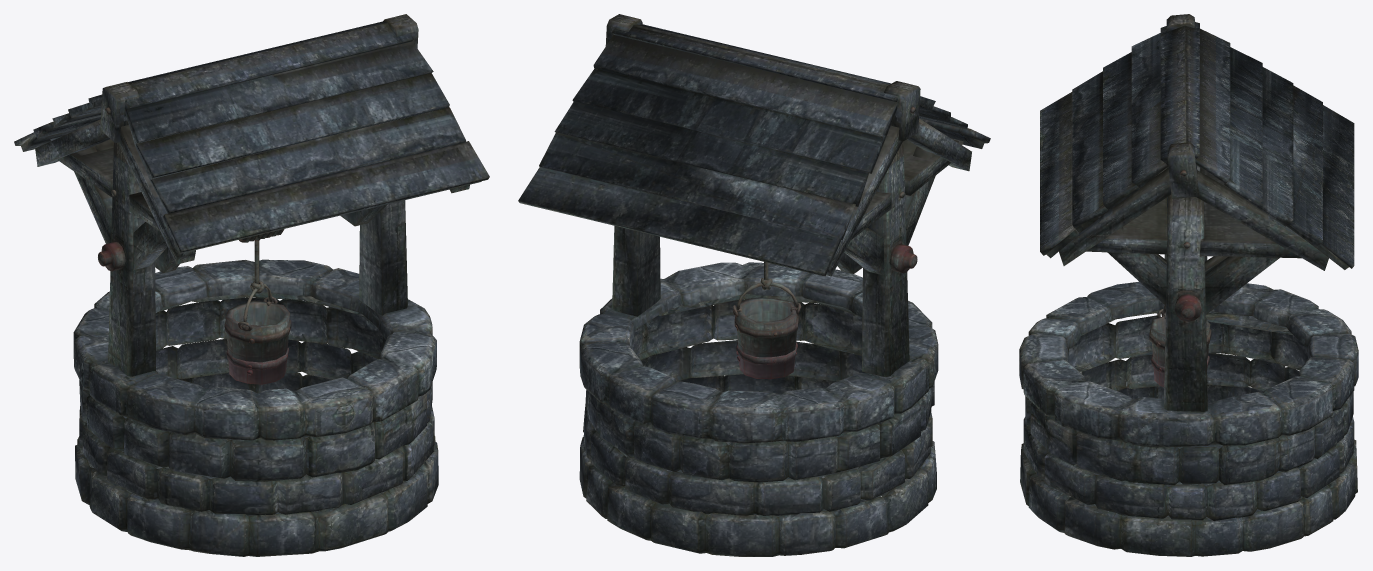
The model's file is well.glb.
3 renders of one model, left to right at view 1: azimuth 30°, elevation 25°; view 2: azimuth 150°, elevation 25°; view 3: azimuth 270°, elevation 25°, orthographic. The views are drawn at different scales.
Visible parts, largest first — view 1: tripo_node_7acff64b-e98b-4eec-8b29-5b40ccc87e42; view 2: tripo_node_7acff64b-e98b-4eec-8b29-5b40ccc87e42; view 3: tripo_node_7acff64b-e98b-4eec-8b29-5b40ccc87e42.
Boxes of the visible parts, bbox=[...] form: tripo_node_7acff64b-e98b-4eec-8b29-5b40ccc87e42: bbox=[14, 14, 489, 556]; tripo_node_7acff64b-e98b-4eec-8b29-5b40ccc87e42: bbox=[518, 14, 990, 556]; tripo_node_7acff64b-e98b-4eec-8b29-5b40ccc87e42: bbox=[1019, 14, 1358, 556].
Size of the model in its own units: 3 by 3.94 by 3.
Materials: 1 (1 with a texture image).
